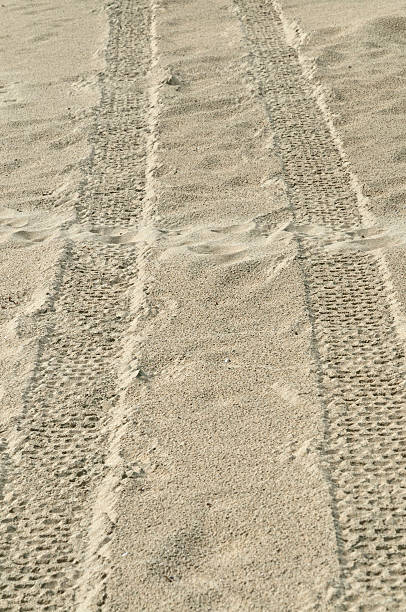vehicle_track: (0, 239, 136, 610), (298, 236, 405, 609)
